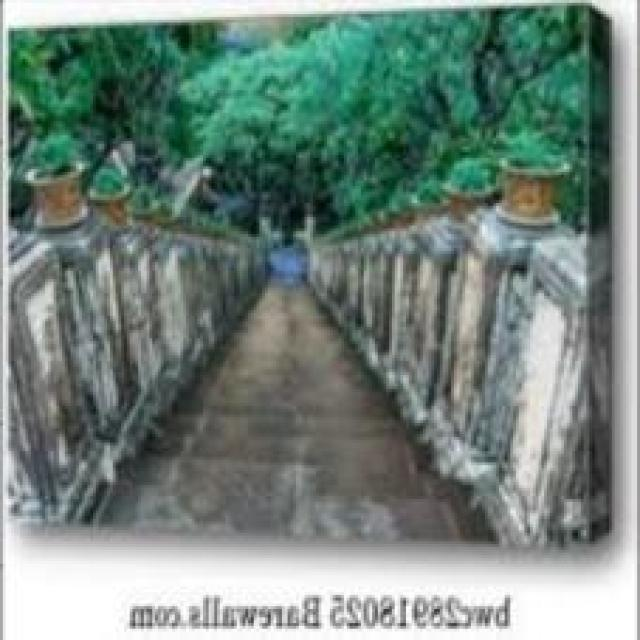downstair: (117, 385, 430, 545)
